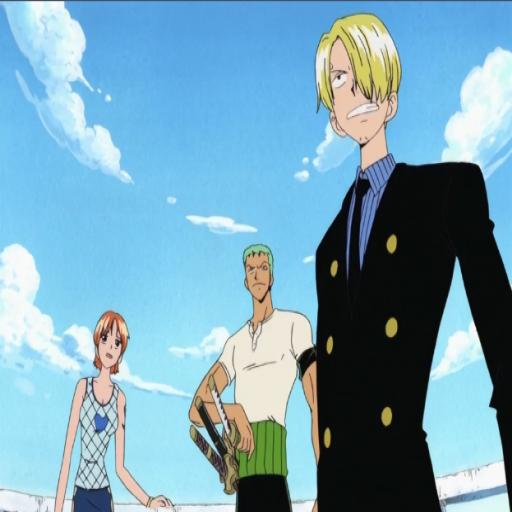Nami: (51, 304, 158, 512)
Zoro: (190, 239, 324, 512)
sanji: (301, 5, 512, 512)
